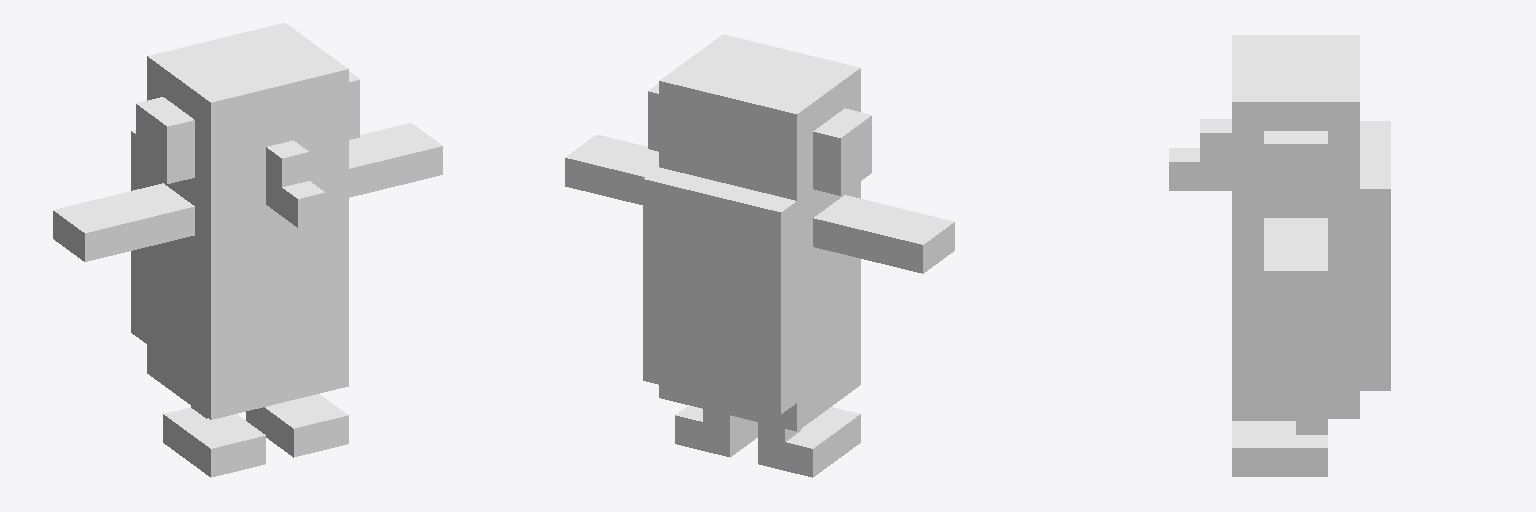
Rendered from penguin_blue2.obj.
3 renders of one model, left to right at view 1: azimuth 30°, elevation 25°; view 2: azimuth 150°, elevation 25°; view 3: azimuth 270°, elevation 25°, orthographic.
Visible parts, largest first — view 1: penguin_blue2; view 2: penguin_blue2; view 3: penguin_blue2.
Part boxes in pixels (bbox=[...]): penguin_blue2: bbox=[53, 23, 442, 477]; penguin_blue2: bbox=[565, 34, 954, 477]; penguin_blue2: bbox=[1169, 35, 1390, 476].
Size of the model in its own units: 13 by 13 by 7.